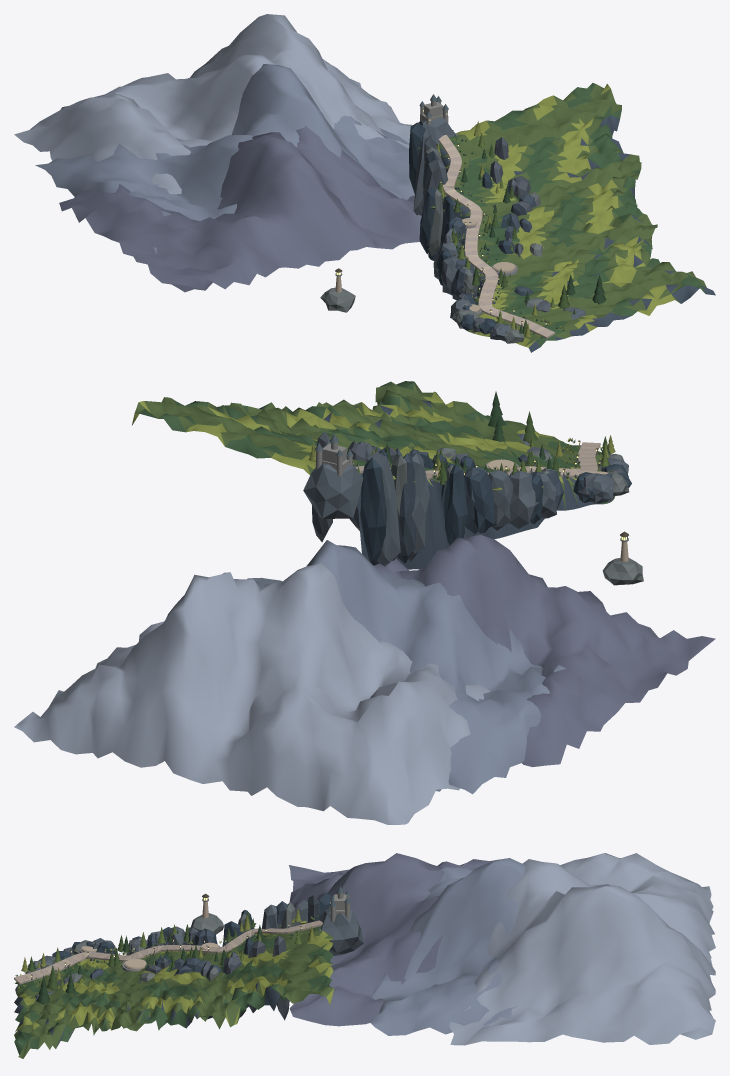
The model's file is coast-hq.glb.
3 views of the same model, one above another, from view 1: azimuth 30°, elevation 25°; view 2: azimuth 150°, elevation 25°; view 3: azimuth 270°, elevation 25° (orthographic). The views are drawn at different scales.
Visible parts, largest first — view 1: Coastal escarpment, Mountain ridge 0, Mountain ridge 2, Mountain ridge 1, Cliff 3, Cliff 4, Cliff 2, Cliff 1, Cliff 0, Needles 0, Needles 1, Paving 0 (+3 smaller); view 2: Mountain ridge 2, Mountain ridge 0, Coastal escarpment, Mountain ridge 1, Cliff 3, Cliff 4, Cliff 1, Cliff 2, Cliff 0, Needles 0, Needles 1, Citadel limestone; view 3: Mountain ridge 2, Coastal escarpment, Mountain ridge 1, Mountain ridge 0, Cliff 3, Cliff 0, Cliff 2, Cliff 1, Cliff 4, Needles 1, Needles 0, Paving 0 (+7 smaller).
Part boxes in pixels (x1=…): Coastal escarpment: x1=428, y1=83, x2=715, y2=352; Mountain ridge 0: x1=59, y1=125, x2=421, y2=292; Mountain ridge 2: x1=14, y1=14, x2=412, y2=194; Mountain ridge 1: x1=35, y1=64, x2=414, y2=254; Cliff 3: x1=413, y1=118, x2=586, y2=340; Cliff 4: x1=409, y1=122, x2=515, y2=334; Cliff 2: x1=320, y1=134, x2=581, y2=343; Cliff 1: x1=423, y1=151, x2=536, y2=319; Cliff 0: x1=454, y1=137, x2=550, y2=332; Needles 0: x1=456, y1=149, x2=606, y2=333; Needles 1: x1=434, y1=143, x2=569, y2=333; Paving 0: x1=440, y1=139, x2=555, y2=338; Mountain ridge 2: x1=14, y1=563, x2=490, y2=824; Mountain ridge 0: x1=374, y1=534, x2=715, y2=767; Coastal escarpment: x1=132, y1=381, x2=615, y2=569; Mountain ridge 1: x1=247, y1=540, x2=623, y2=794; Cliff 3: x1=303, y1=433, x2=628, y2=566; Cliff 4: x1=360, y1=449, x2=631, y2=565; Cliff 1: x1=355, y1=446, x2=619, y2=563; Cliff 2: x1=357, y1=436, x2=643, y2=585; Cliff 0: x1=312, y1=432, x2=624, y2=542; Needles 0: x1=385, y1=391, x2=609, y2=471; Needles 1: x1=375, y1=411, x2=610, y2=484; Citadel limestone: x1=315, y1=442, x2=353, y2=476; Mountain ridge 2: x1=449, y1=853, x2=715, y2=1045; Coastal escarpment: x1=14, y1=926, x2=334, y2=1058; Mountain ridge 1: x1=369, y1=858, x2=525, y2=1035; Mountain ridge 0: x1=289, y1=853, x2=494, y2=1026; Cliff 3: x1=35, y1=895, x2=363, y2=1000; Cliff 0: x1=27, y1=928, x2=289, y2=1020; Cliff 2: x1=27, y1=902, x2=320, y2=1017; Cliff 1: x1=26, y1=901, x2=293, y2=1019; Cliff 4: x1=52, y1=893, x2=331, y2=1007; Needles 1: x1=27, y1=911, x2=281, y2=989; Needles 0: x1=33, y1=915, x2=312, y2=1003; Paving 0: x1=14, y1=921, x2=315, y2=984.
Size of the model in its own units: 115 by 31.68 by 156.
